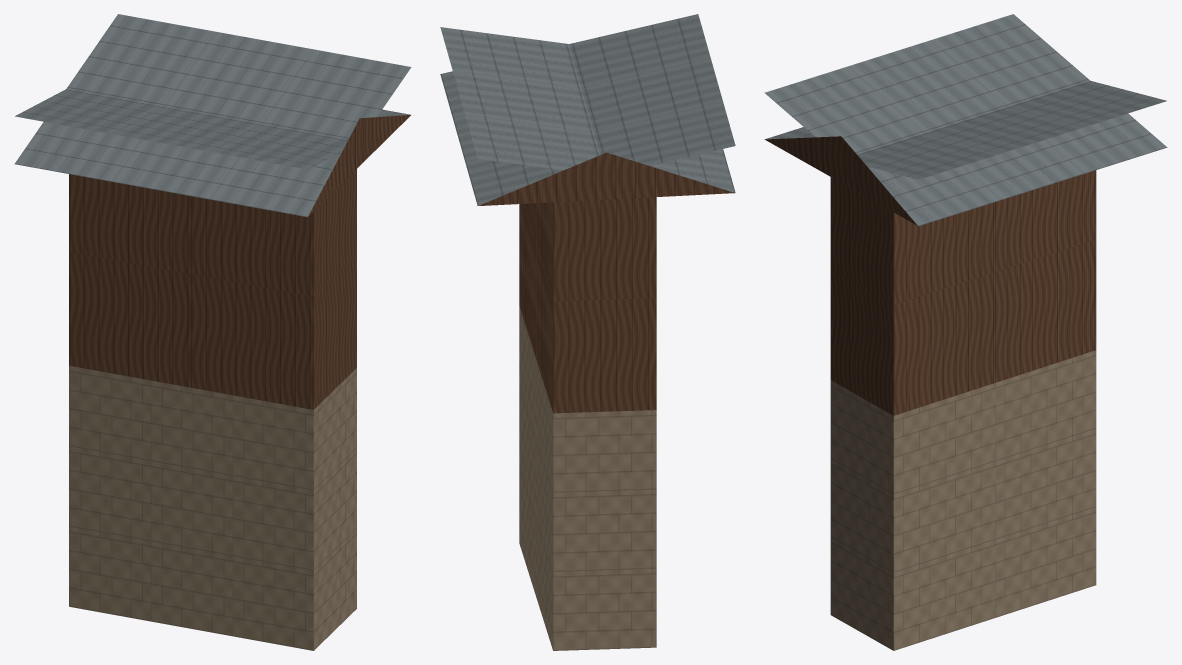
File: bld_c14_37_413.gltf
3 renders of one model, left to right at view 1: azimuth 30°, elevation 25°; view 2: azimuth 150°, elevation 25°; view 3: azimuth 270°, elevation 25°, orthographic. The views are drawn at different scales.
Parts seen in each view (by area): view 1: bld_c14_37_413; view 2: bld_c14_37_413; view 3: bld_c14_37_413.
Part boxes in pixels (<box>): bld_c14_37_413: <box>14,14,411,650</box>; bld_c14_37_413: <box>440,14,735,650</box>; bld_c14_37_413: <box>764,14,1167,650</box>.
Size of the model in its own units: 7.63 by 10.8 by 7.84.
4 materials, 4 textured.
